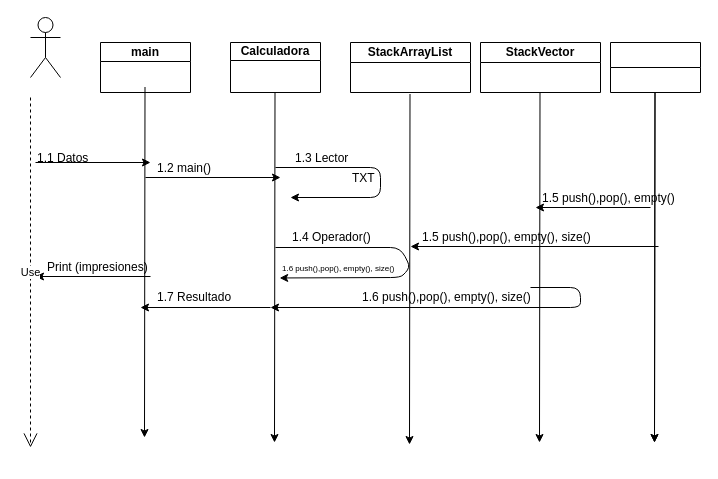
Image size: 718x479. Some labels were removed from this diagram. Here are the shapes that lost their labels. From the top down, the centre of each, then its label:
At (45,47): "Actor".
At (655,67): "Stack <<Interfaz>>".
